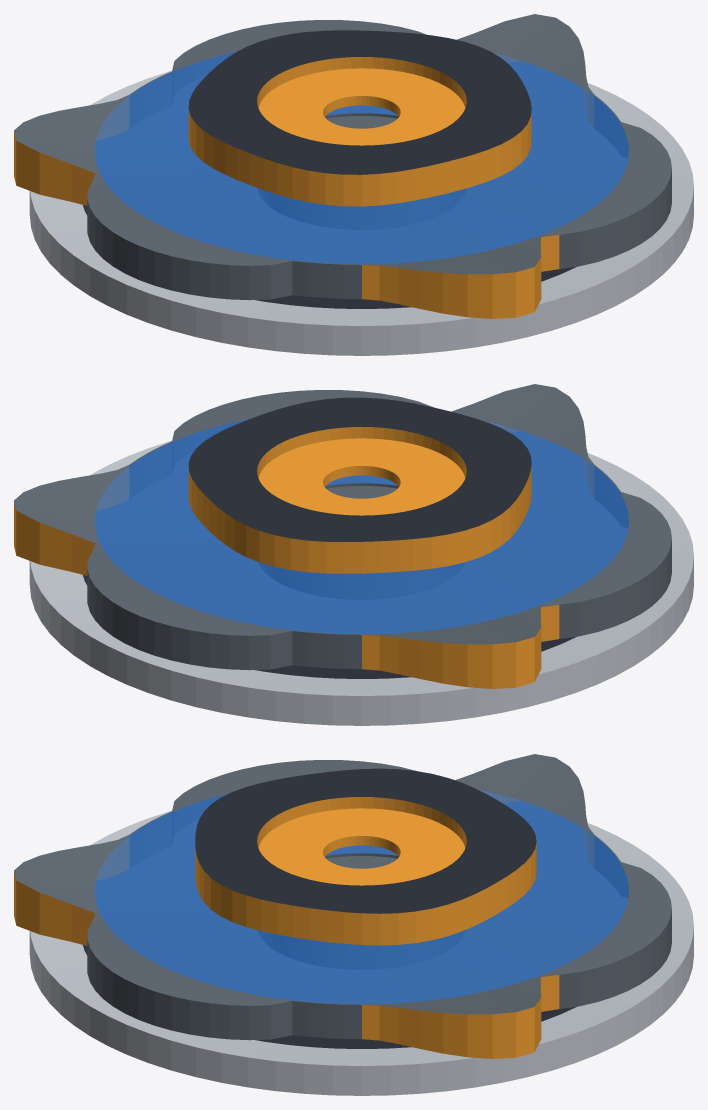
Rendered from assembly_phase2a_dual_comet.glb.
3 renders of one model, top to bottom at view 1: azimuth 30°, elevation 25°; view 2: azimuth 150°, elevation 25°; view 3: azimuth 270°, elevation 25°, orthographic.
Parts seen in each view (by area): view 1: GEO_blade_dual_comet_BODY, GEO_core_solar_wolf_BODY, GEO_assist_heavy_BODY, GEO_core_solar_wolf_NSS_V1_COLLAR, GEO_blade_dual_comet_NSS_V1_COLLAR; view 2: GEO_blade_dual_comet_BODY, GEO_core_solar_wolf_BODY, GEO_assist_heavy_BODY, GEO_core_solar_wolf_NSS_V1_COLLAR, GEO_blade_dual_comet_NSS_V1_COLLAR; view 3: GEO_blade_dual_comet_BODY, GEO_core_solar_wolf_BODY, GEO_assist_heavy_BODY, GEO_core_solar_wolf_NSS_V1_COLLAR, GEO_blade_dual_comet_NSS_V1_COLLAR.
Part boxes in pixels (x1=…): GEO_blade_dual_comet_BODY: x1=14, y1=14, x2=671, y2=318; GEO_core_solar_wolf_BODY: x1=188, y1=30, x2=531, y2=206; GEO_assist_heavy_BODY: x1=29, y1=70, x2=693, y2=355; GEO_core_solar_wolf_NSS_V1_COLLAR: x1=258, y1=68, x2=465, y2=145; GEO_blade_dual_comet_NSS_V1_COLLAR: x1=326, y1=116, x2=397, y2=128; GEO_blade_dual_comet_BODY: x1=14, y1=384, x2=671, y2=688; GEO_core_solar_wolf_BODY: x1=188, y1=397, x2=531, y2=573; GEO_assist_heavy_BODY: x1=29, y1=440, x2=693, y2=725; GEO_core_solar_wolf_NSS_V1_COLLAR: x1=258, y1=438, x2=465, y2=515; GEO_blade_dual_comet_NSS_V1_COLLAR: x1=326, y1=486, x2=397, y2=498; GEO_blade_dual_comet_BODY: x1=14, y1=754, x2=671, y2=1058; GEO_core_solar_wolf_BODY: x1=195, y1=768, x2=536, y2=945; GEO_assist_heavy_BODY: x1=29, y1=810, x2=693, y2=1095; GEO_core_solar_wolf_NSS_V1_COLLAR: x1=258, y1=808, x2=465, y2=885; GEO_blade_dual_comet_NSS_V1_COLLAR: x1=326, y1=856, x2=397, y2=868.
Size of the model in its own units: 0.0684 by 0.024 by 0.07.
